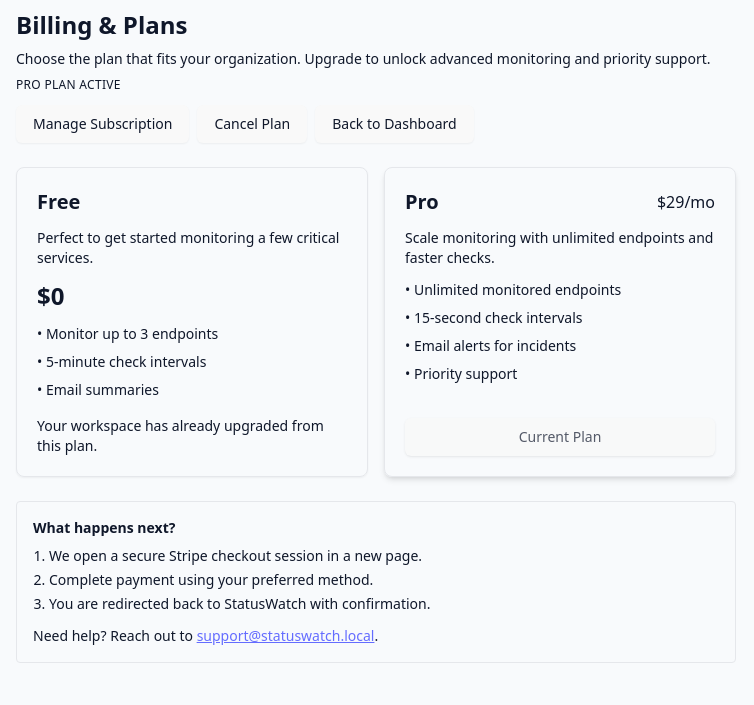
Test case: BillingPage › surfaces an error when cancellation fails
The image size is (754, 705).
Step 1. Click the button "Cancel Plan" → (252,124), box [197, 105, 307, 143]
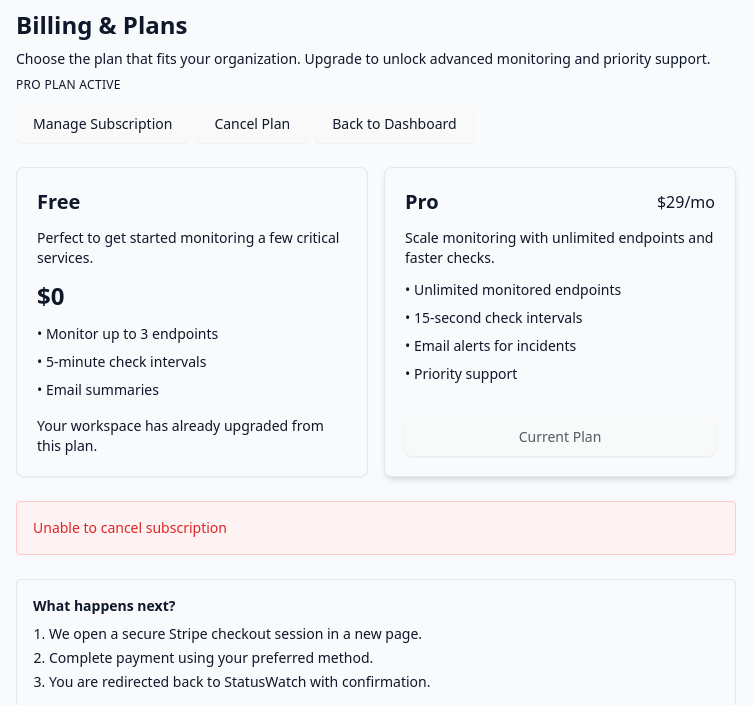
Expected: the text "Unable to cancel subscription" is shown, [33, 518, 227, 537]
